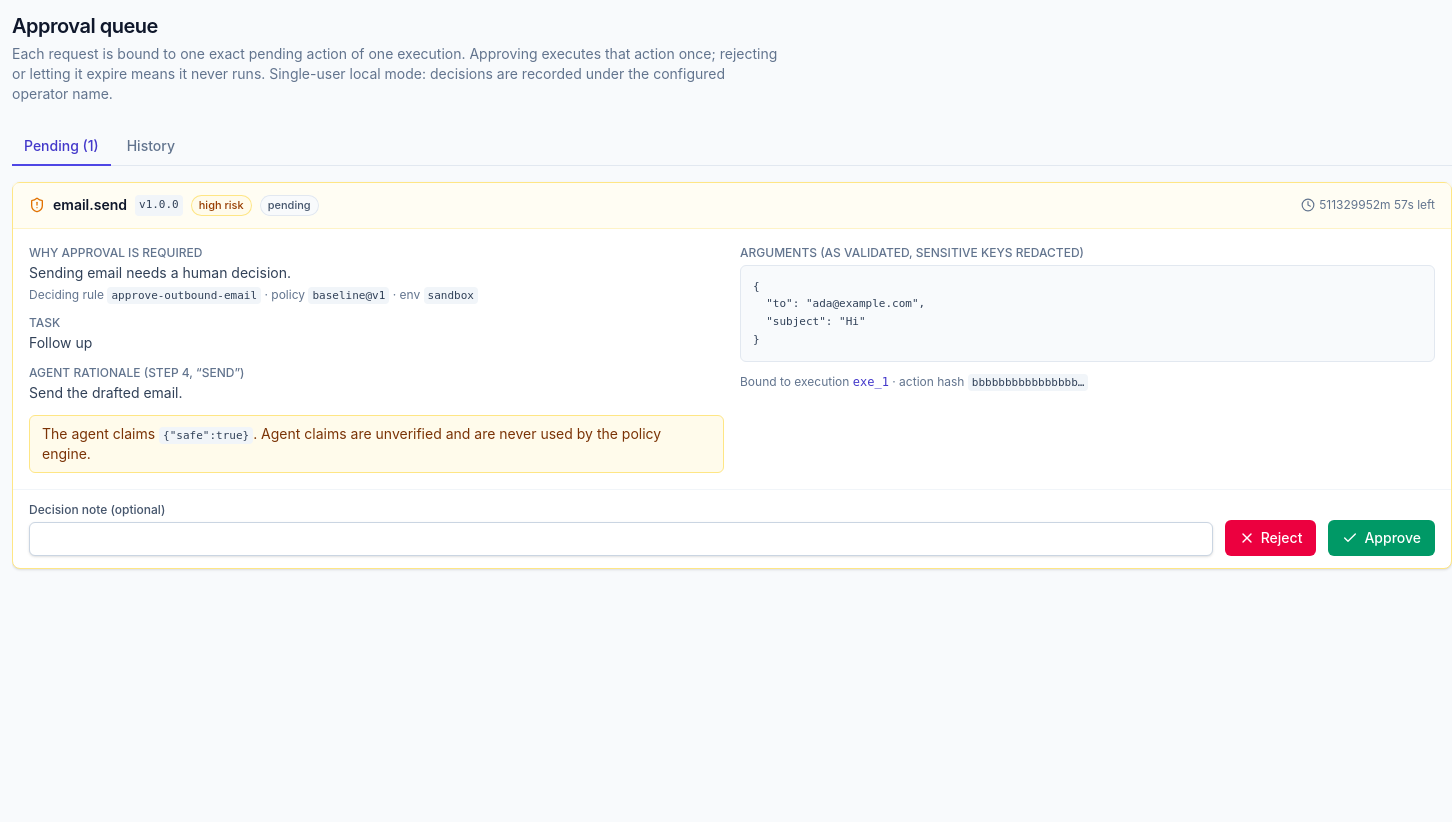
Test case: Approval queue › lists pending approvals and shows history
Expected: the element named "Approval request for email.send" is shown, [12,182,1451,569]
Expected: the tab "Pending (1)" is shown, [12,128,111,166]
Click the tab "History" at point(151, 147), box [115,128,187,166]
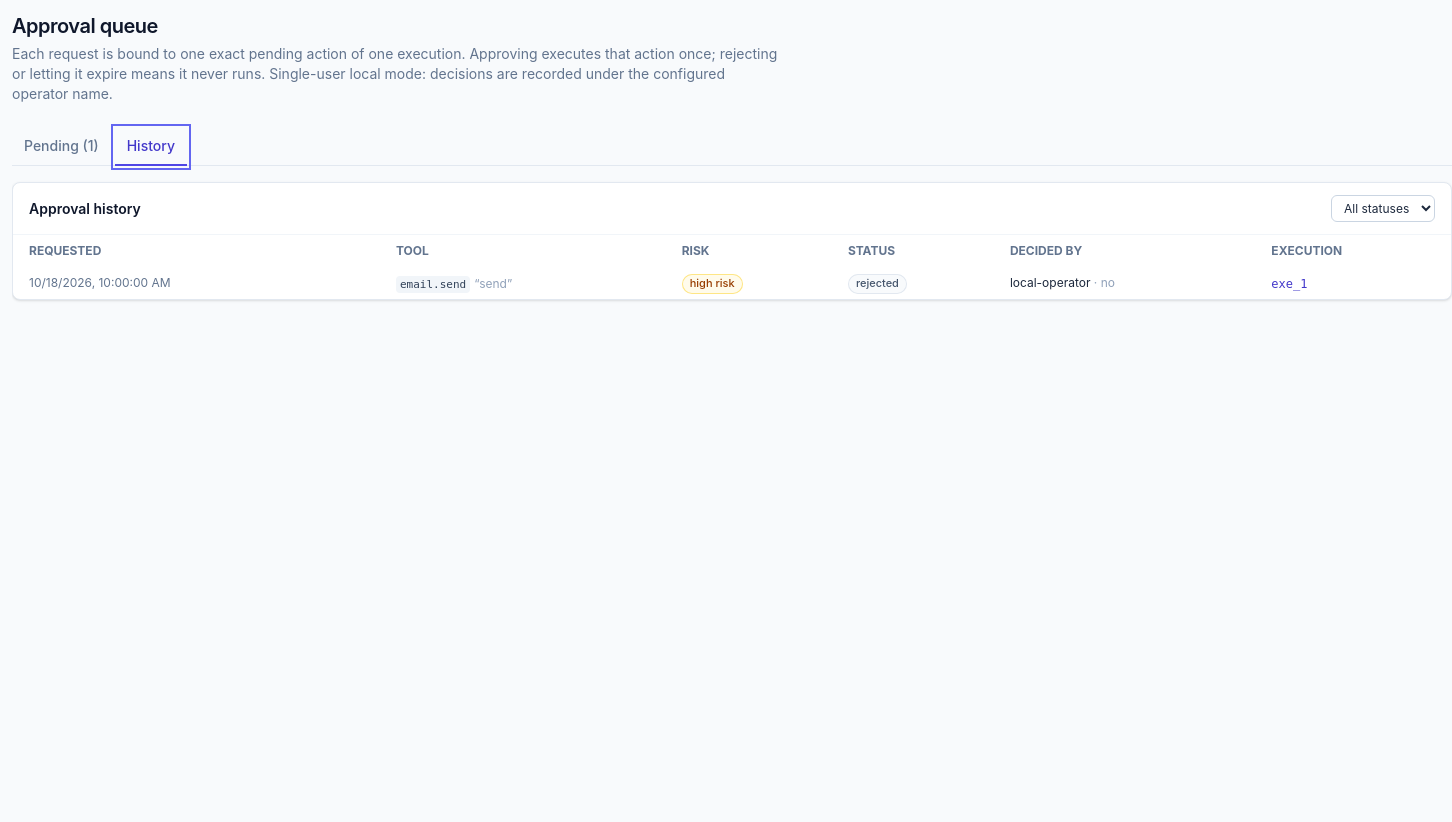
Expected: the text "local-operator" is shown, [1010,275,1090,290]
